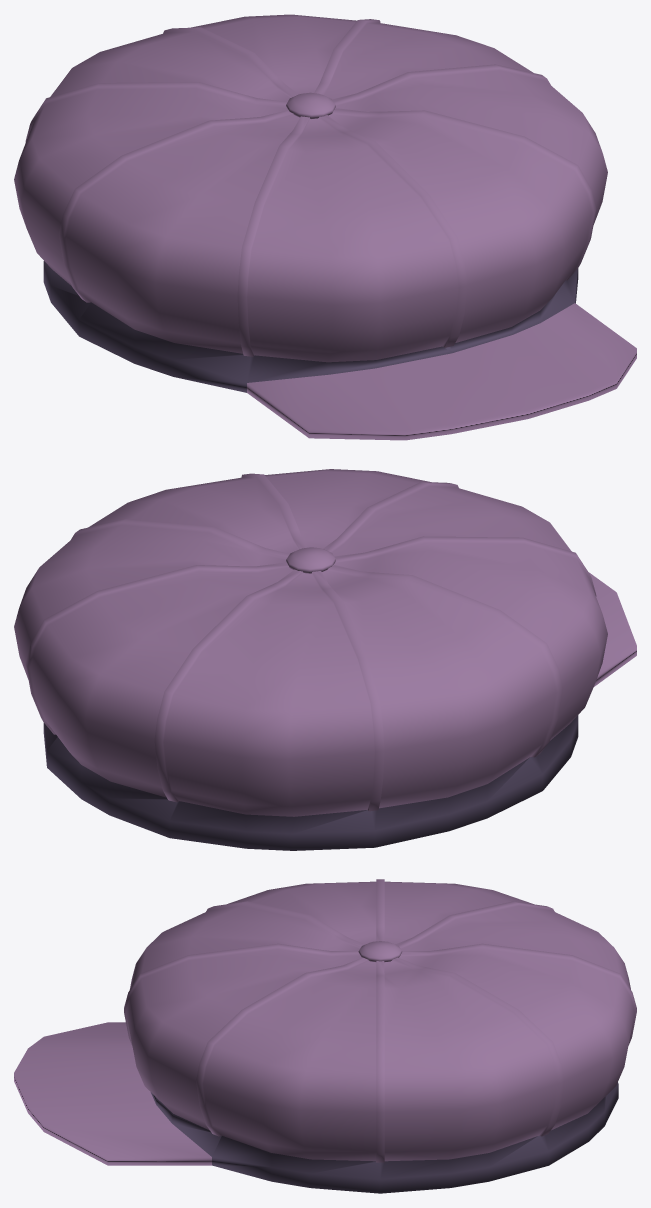
The model's file is Hat_Newsboy.fbx.
3 renders of one model, top to bottom at view 1: azimuth 30°, elevation 25°; view 2: azimuth 150°, elevation 25°; view 3: azimuth 270°, elevation 25°, orthographic. The views are drawn at different scales.
Visible parts, largest first — view 1: NewsboyCap; view 2: NewsboyCap; view 3: NewsboyCap.
Part boxes in pixels (<box>): NewsboyCap: <box>14,14,636,440</box>; NewsboyCap: <box>14,469,636,850</box>; NewsboyCap: <box>14,879,636,1193</box>.
Bounding box in the file's own units: 187 × 64.93 × 239.
